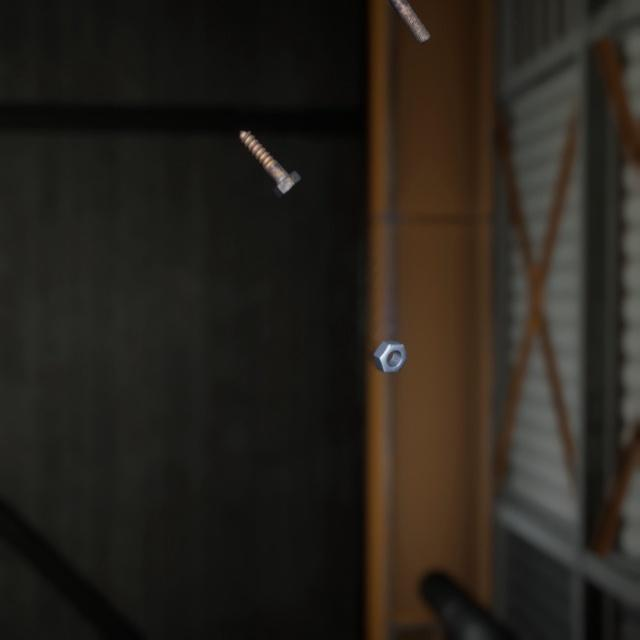bolt: (234, 112, 305, 188), (387, 0, 434, 43)
nut: (368, 318, 411, 359)
